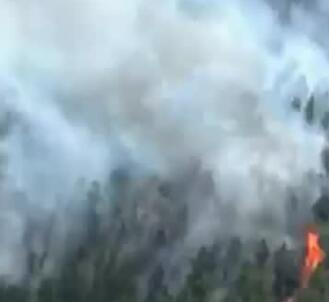fire: (292, 228, 326, 292)
yanwu: (1, 0, 313, 256)
